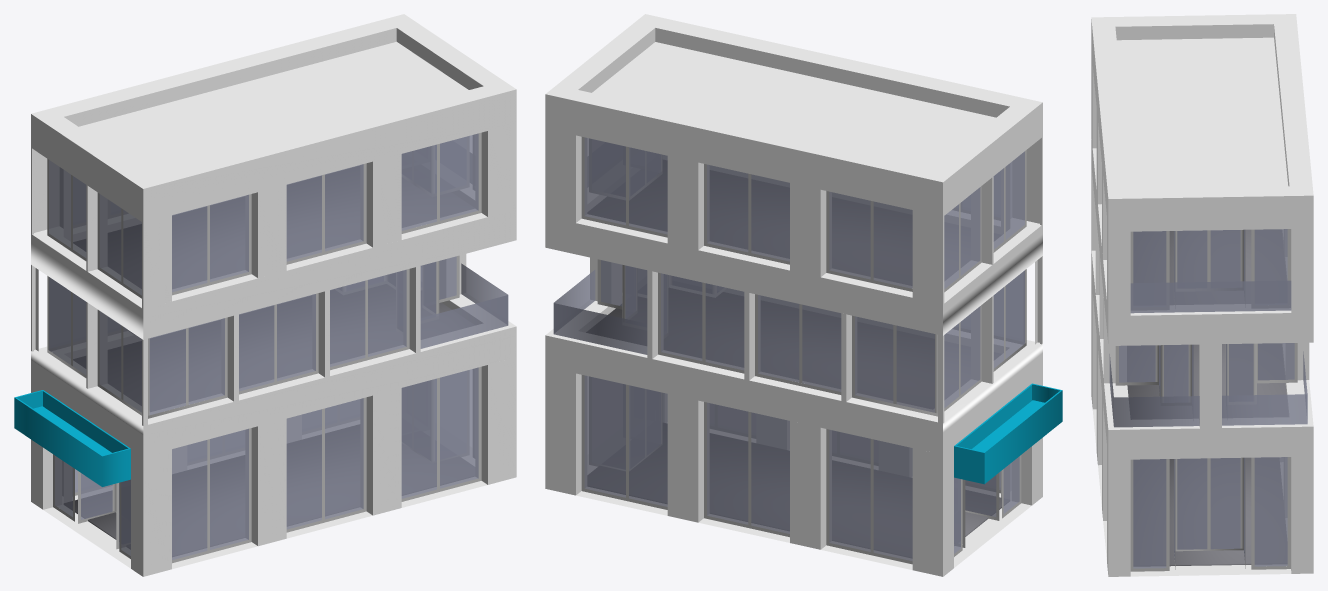
The model's file is house2Floors.dae.
3 renders of one model, left to right at view 1: azimuth 30°, elevation 25°; view 2: azimuth 150°, elevation 25°; view 3: azimuth 270°, elevation 25°, orthographic. The views are drawn at different scales.
Parts seen in each view (by area): view 1: CityEngineMaterial_30_003; view 2: CityEngineMaterial_30_003; view 3: CityEngineMaterial_30_003.
Boxes of the visible parts, x1,y1,x2,y2 form: CityEngineMaterial_30_003: (14, 14, 516, 576); CityEngineMaterial_30_003: (545, 14, 1062, 576); CityEngineMaterial_30_003: (1091, 14, 1313, 576).
Bounding box in the file's own units: 14.2 × 6.72 × 12.6.
